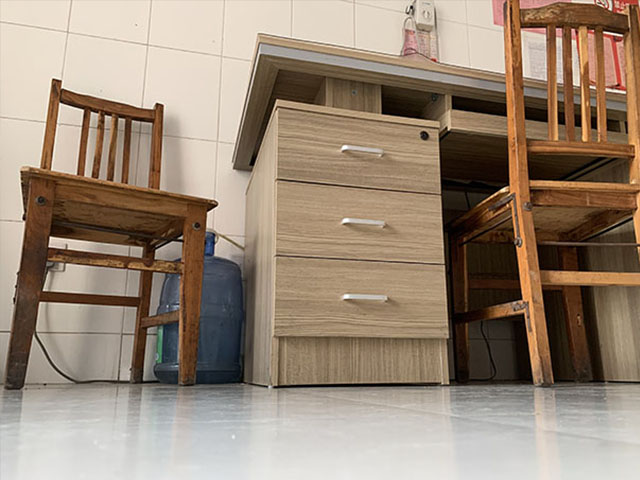cabinet: (229, 27, 639, 387)
stool: (443, 1, 640, 387), (1, 76, 219, 391)
wire: (36, 328, 158, 385), (472, 316, 499, 384)
